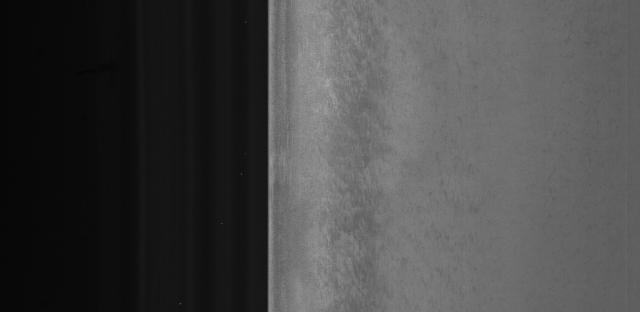silk_spot: (322, 24, 398, 286)
